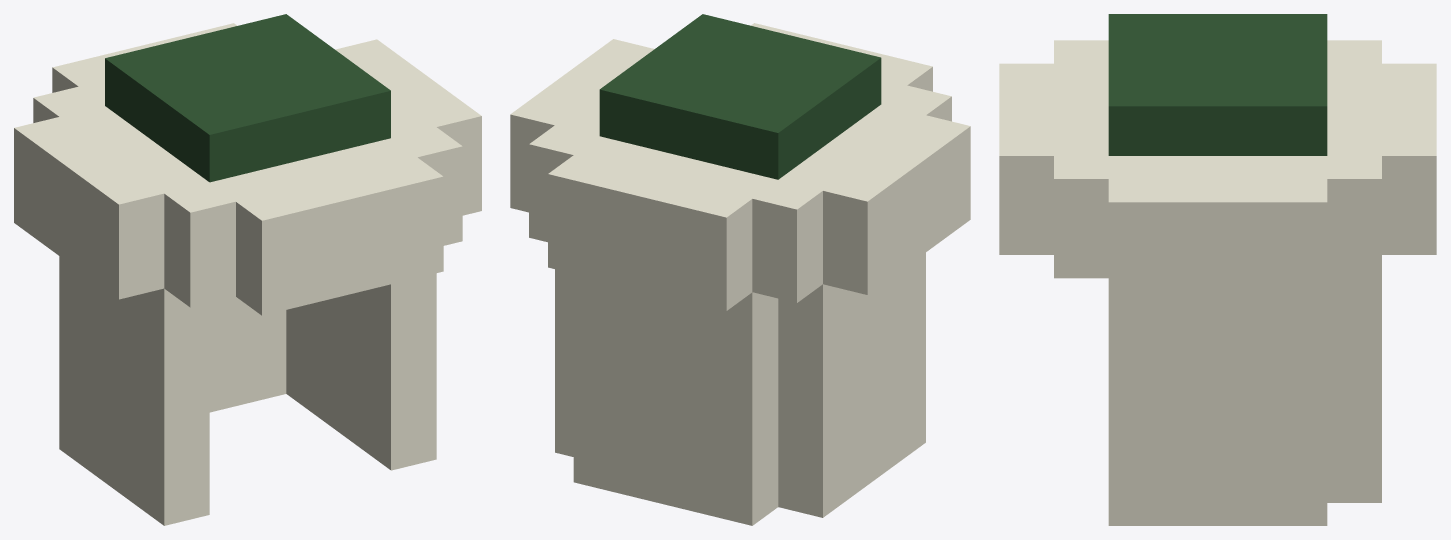
File: character-183-helm_lgt_2b_sh.obj
The picture shows the model from 3 angles, left to right: view 1: azimuth 30°, elevation 25°; view 2: azimuth 150°, elevation 25°; view 3: azimuth 270°, elevation 25°; orthographic projection. The views are drawn at different scales.
Parts seen in each view (by area): view 1: helm_lgt_2b_sh; view 2: helm_lgt_2b_sh; view 3: helm_lgt_2b_sh.
Boxes of the visible parts, left/top/right/bottom form: helm_lgt_2b_sh: left=14, top=14, right=481, bottom=525; helm_lgt_2b_sh: left=510, top=14, right=970, bottom=525; helm_lgt_2b_sh: left=999, top=14, right=1436, bottom=525.
Bounding box in the file's own units: 0.8 × 0.8 × 0.8.
Materials: 1 (1 with a texture image).
